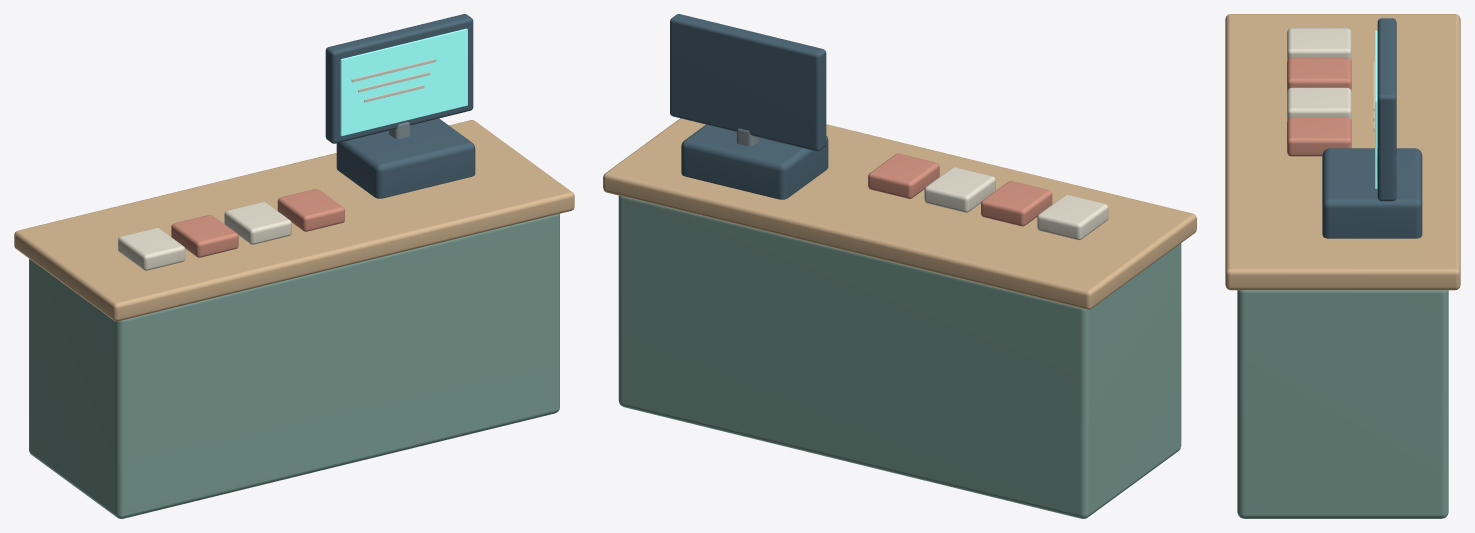
The model's file is alpha_shop.glb.
3 renders of one model, left to right at view 1: azimuth 30°, elevation 25°; view 2: azimuth 150°, elevation 25°; view 3: azimuth 270°, elevation 25°, orthographic. The views are drawn at different scales.
Parts seen in each view (by area): view 1: Alpha_sage, Alpha_lightwood, Alpha_navy, Alpha_screen, Alpha_cream, Alpha_coral; view 2: Alpha_sage, Alpha_lightwood, Alpha_navy, Alpha_cream, Alpha_coral; view 3: Alpha_sage, Alpha_lightwood, Alpha_navy, Alpha_coral, Alpha_cream, Alpha_screen.
Boxes of the visible parts, left/top/right/bottom form: Alpha_sage: left=29, top=213, right=559, bottom=518; Alpha_lightwood: left=14, top=120, right=574, bottom=321; Alpha_navy: left=325, top=14, right=475, bottom=198; Alpha_screen: left=340, top=28, right=467, bottom=136; Alpha_cream: left=118, top=59, right=436, bottom=270; Alpha_coral: left=171, top=189, right=344, bottom=257; Alpha_sage: left=618, top=195, right=1181, bottom=518; Alpha_lightwood: left=603, top=118, right=1196, bottom=309; Alpha_navy: left=670, top=14, right=828, bottom=199; Alpha_cream: left=924, top=167, right=1108, bottom=240; Alpha_coral: left=868, top=153, right=1052, bottom=226; Alpha_sage: left=1237, top=290, right=1448, bottom=518; Alpha_lightwood: left=1225, top=14, right=1460, bottom=290; Alpha_navy: left=1322, top=18, right=1422, bottom=238; Alpha_coral: left=1287, top=58, right=1351, bottom=156; Alpha_cream: left=1287, top=28, right=1374, bottom=131; Alpha_screen: left=1375, top=30, right=1377, bottom=188.
Bounding box in the file's own units: 2.08 × 1.54 × 0.8.
